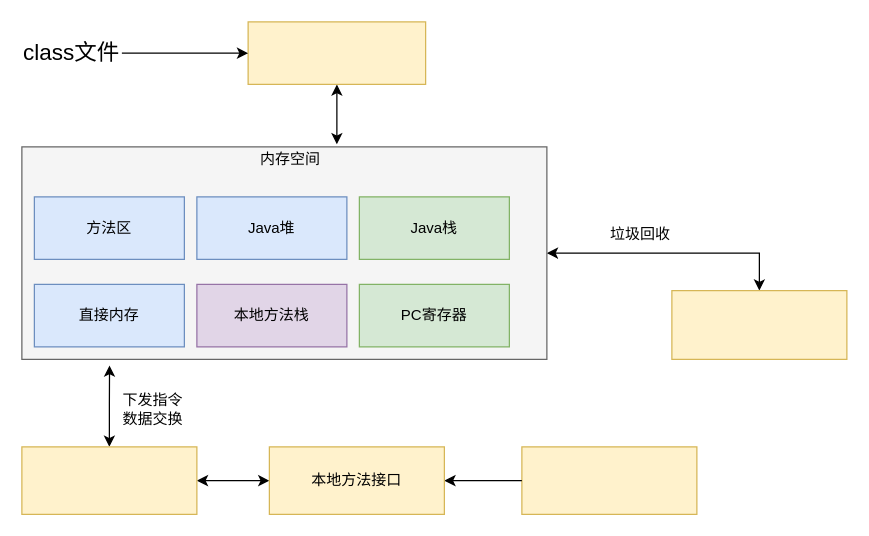
Some shapes in this 869 by 536 pixel diagram are drawn without their labels. Each missing label, with the box of its shape:
垃圾回收系统: (671, 289, 847, 359)
执行引擎: (21, 446, 197, 514)
本地方法库: (521, 446, 697, 514)
类加载子系统: (247, 21, 426, 84)
